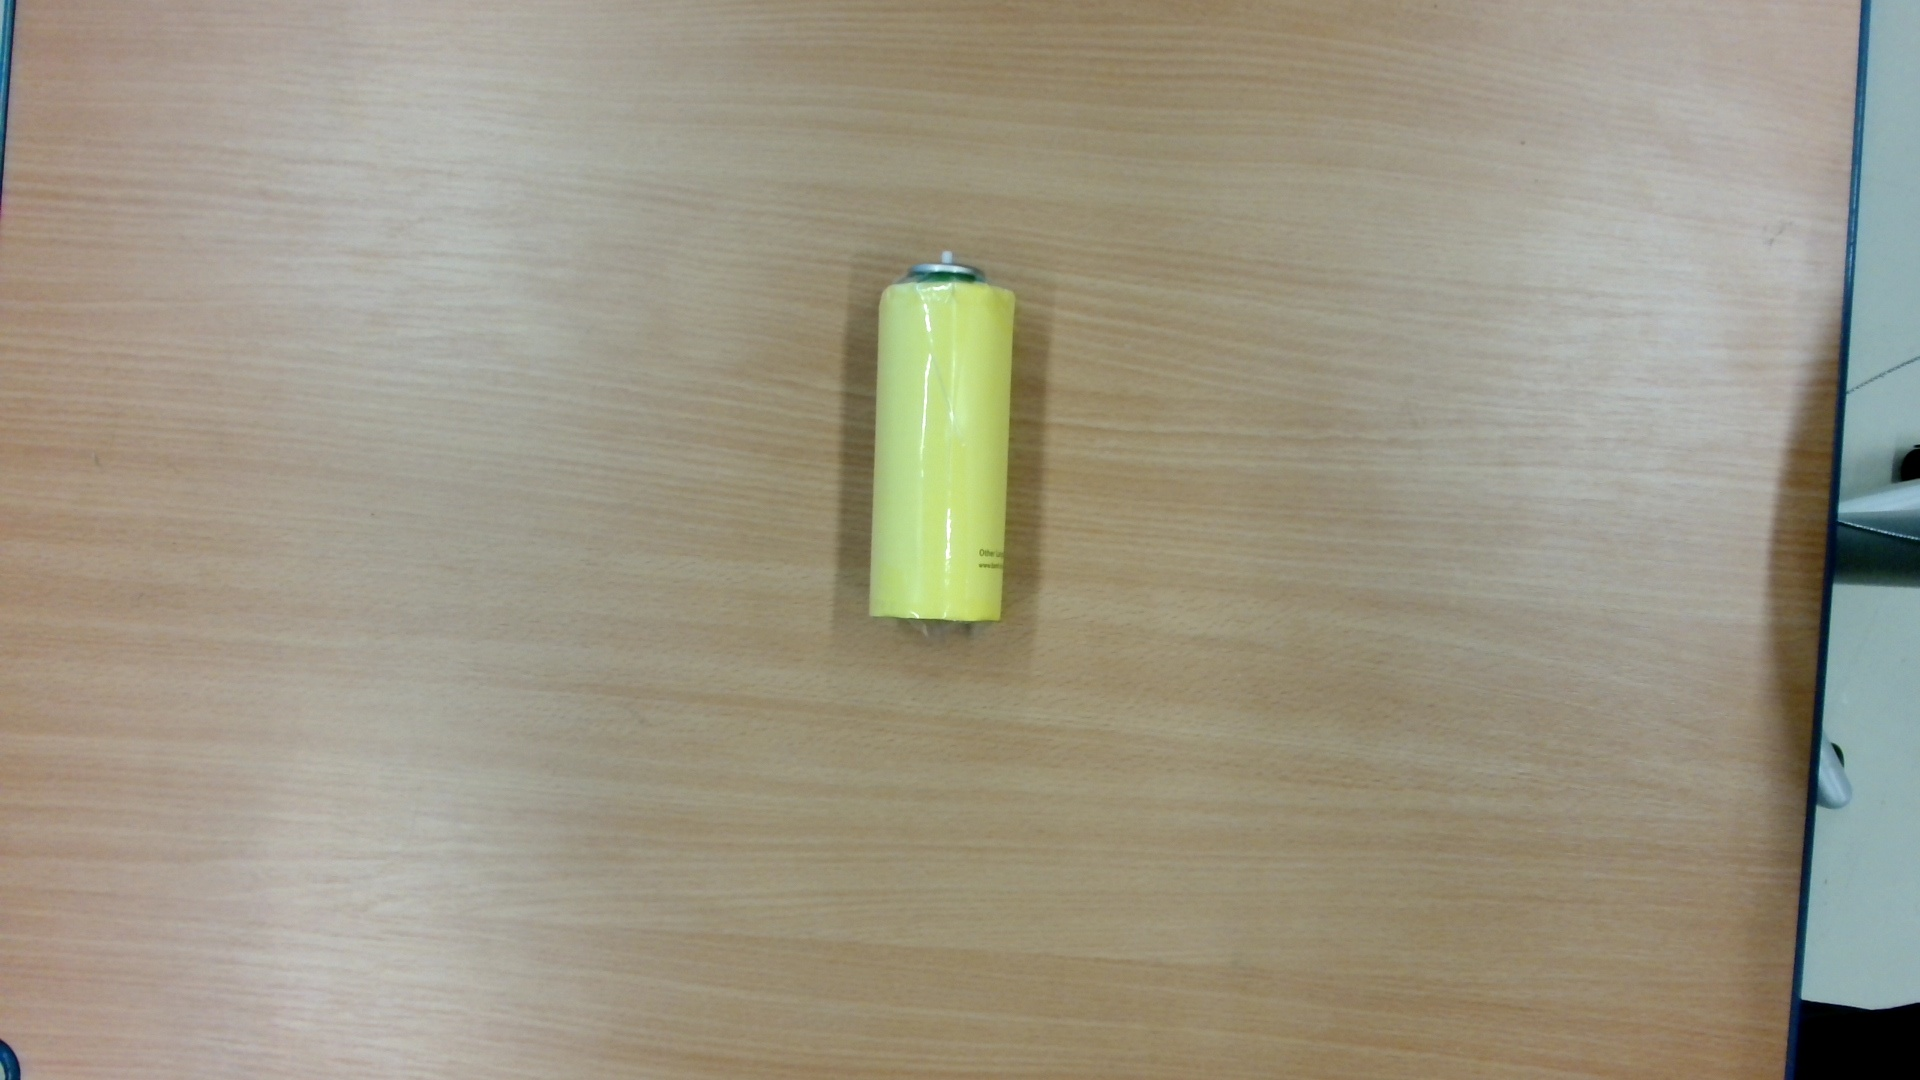Cylinder: (853, 238, 1029, 646)
